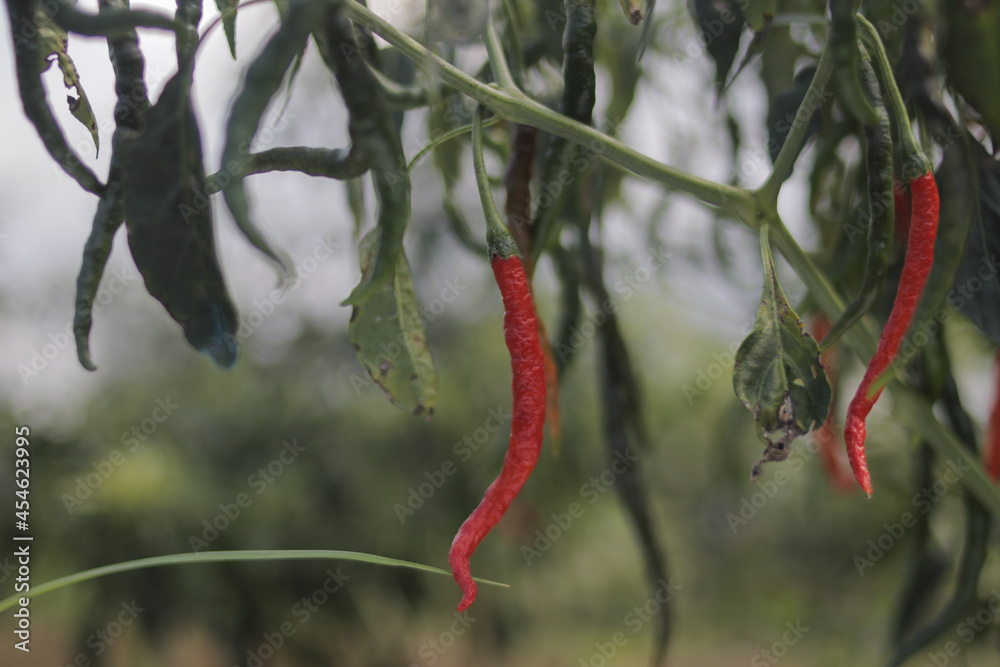Cabai: (436, 242, 660, 631)
